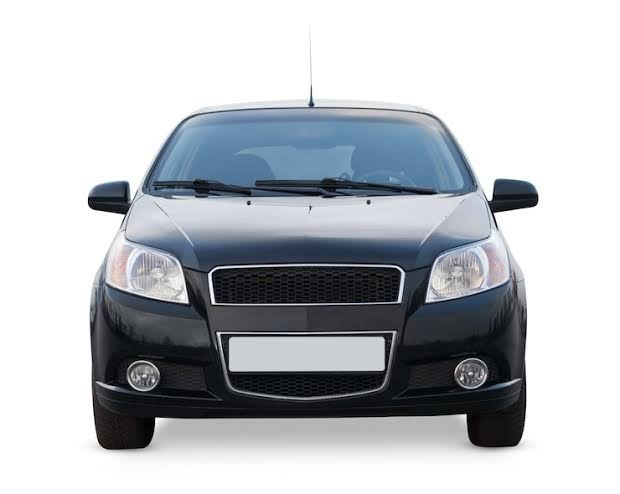car: (82, 104, 531, 438)
